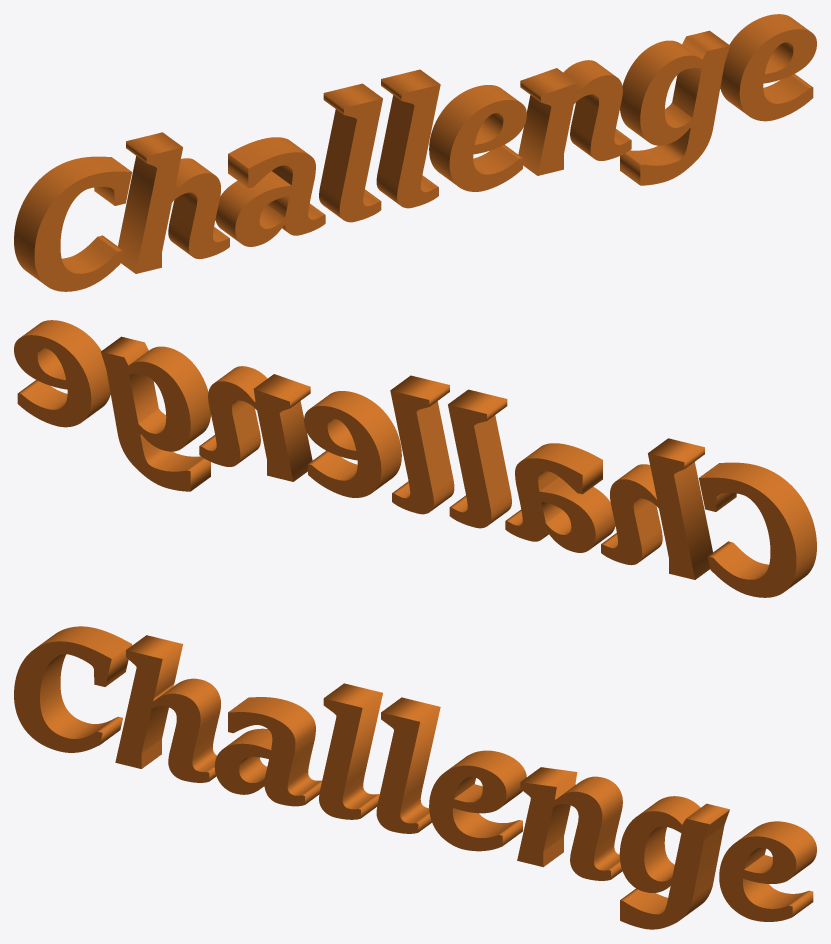
File: challenge.fbx
The picture shows the model from 3 angles, top to bottom: view 1: azimuth 30°, elevation 25°; view 2: azimuth 150°, elevation 25°; view 3: azimuth 330°, elevation 25°; orthographic projection.
Parts seen in each view (by area): view 1: Text; view 2: Text; view 3: Text.
Part boxes in pixels (x1,y1,x2,y2): Text: (14, 14, 816, 291); Text: (14, 320, 816, 597); Text: (14, 626, 816, 929).
Bounding box in the file's own units: 344 × 63.92 × 15.6.
